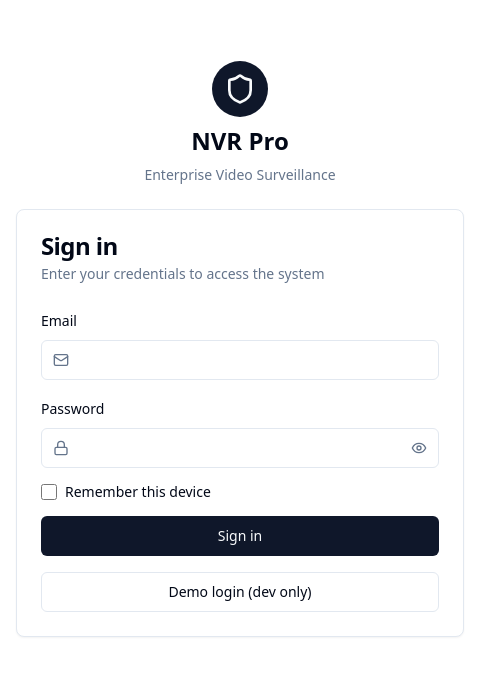
Login › shows lockout countdown when account is locked
Step 1. Type "admin@example.com" into the field labelled "Email" → (240, 360), box top-left (41, 340), bottom-right (439, 380)
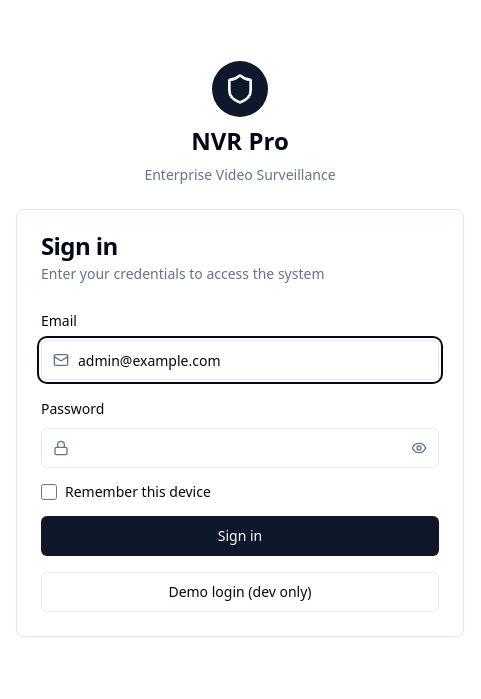
Step 2. Type "wrong" into the password field labelled "Password" → (240, 448), box top-left (41, 428), bottom-right (439, 468)
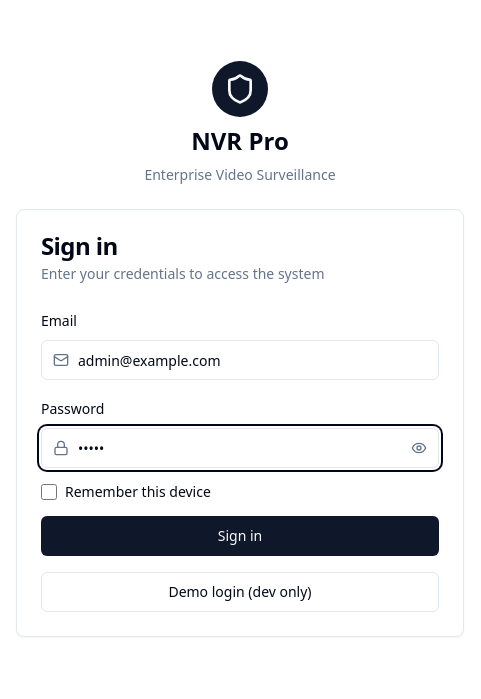
Step 3. Click the button "Sign in" → (240, 536), box top-left (41, 516), bottom-right (439, 556)
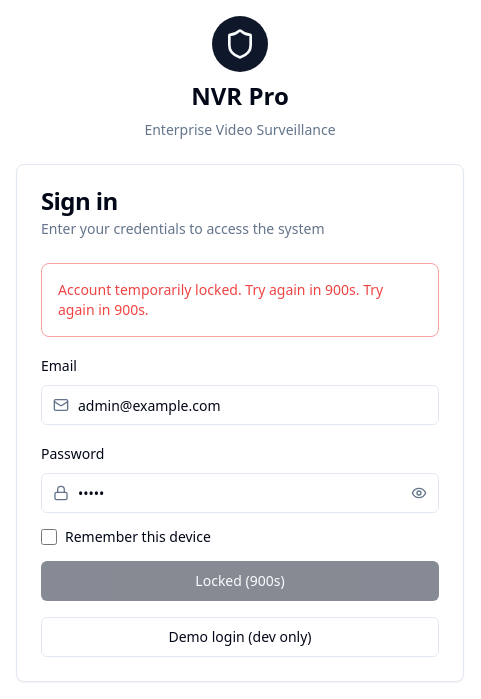
Result: the button "Locked (900s)" is disabled at top-left (41, 561), bottom-right (439, 601)
